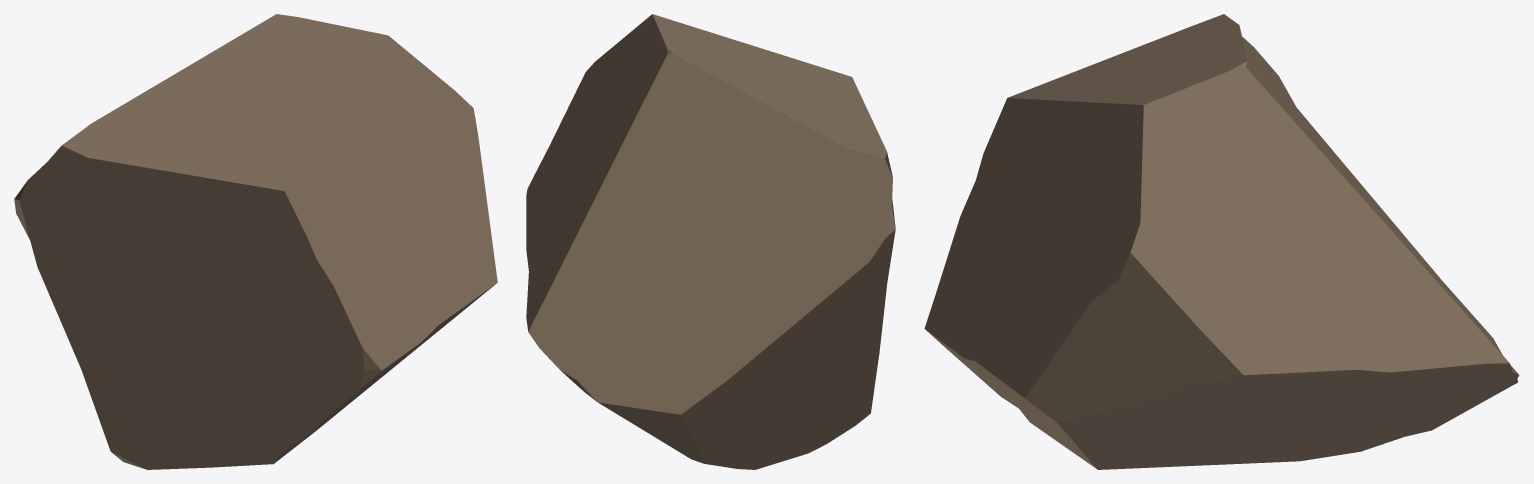
File: rock_10.fbx
The picture shows the model from 3 angles, left to right: view 1: azimuth 30°, elevation 25°; view 2: azimuth 150°, elevation 25°; view 3: azimuth 270°, elevation 25°; orthographic projection. The views are drawn at different scales.
Visible parts, largest first — view 1: rock_10; view 2: rock_10; view 3: rock_10.
Part boxes in pixels (bbox=[...]): rock_10: bbox=[14, 14, 497, 469]; rock_10: bbox=[526, 14, 895, 469]; rock_10: bbox=[924, 14, 1519, 469].
Bounding box in the file's own units: 1.78 × 1.67 × 1.9.
